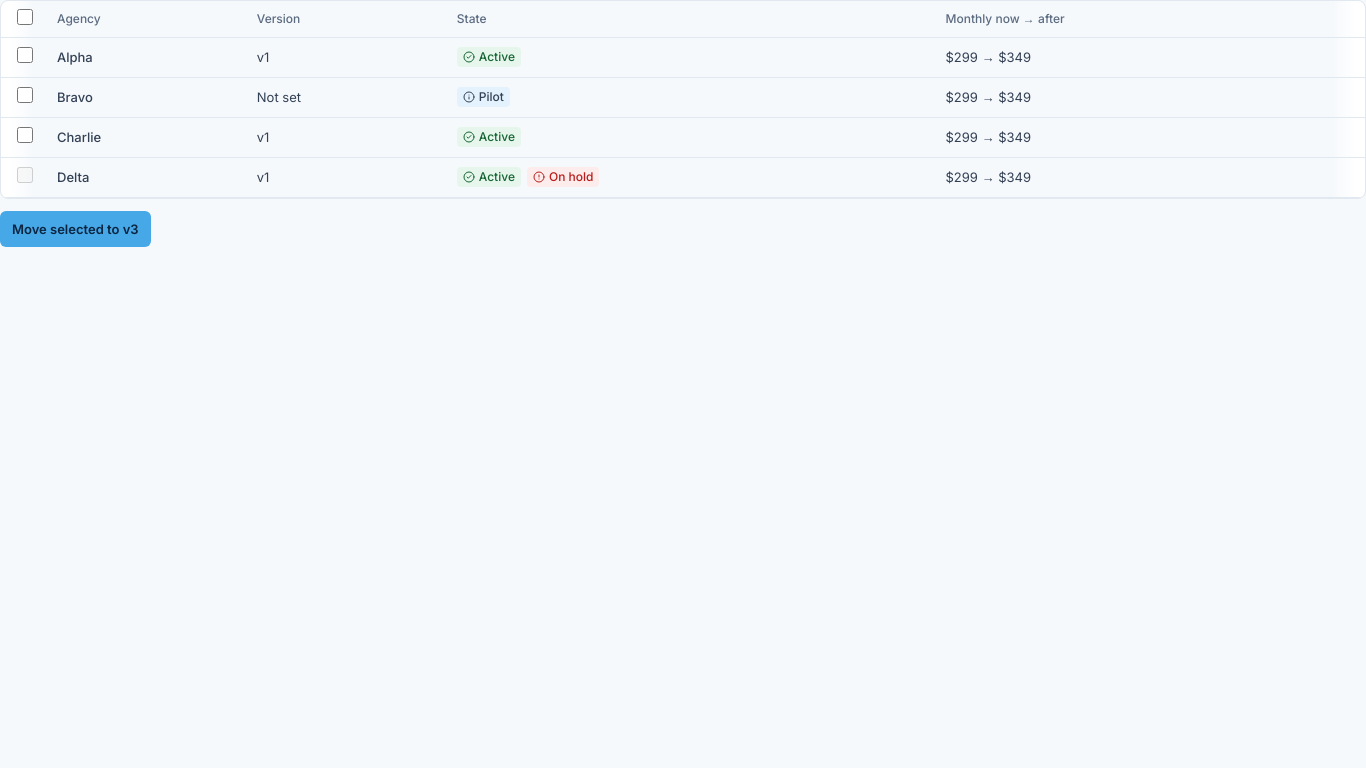
Scenario: PlanAgencies › confirming moves the chosen ids and summarises, naming those not moved with a reason label
Click the checkbox named "Select Alpha".
click(25, 55)  # box [17, 47, 33, 63]
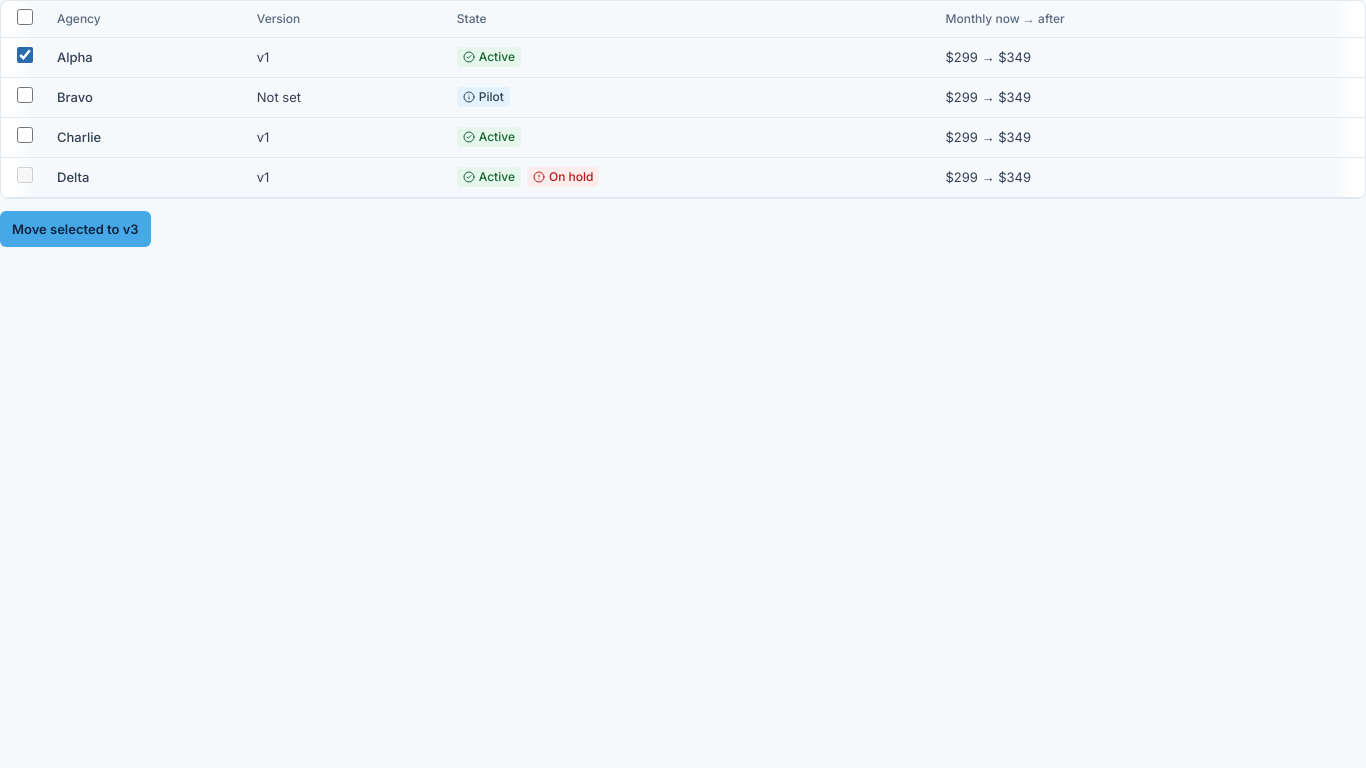
Click the checkbox named "Select Bravo".
click(25, 95)  # box [17, 87, 33, 103]
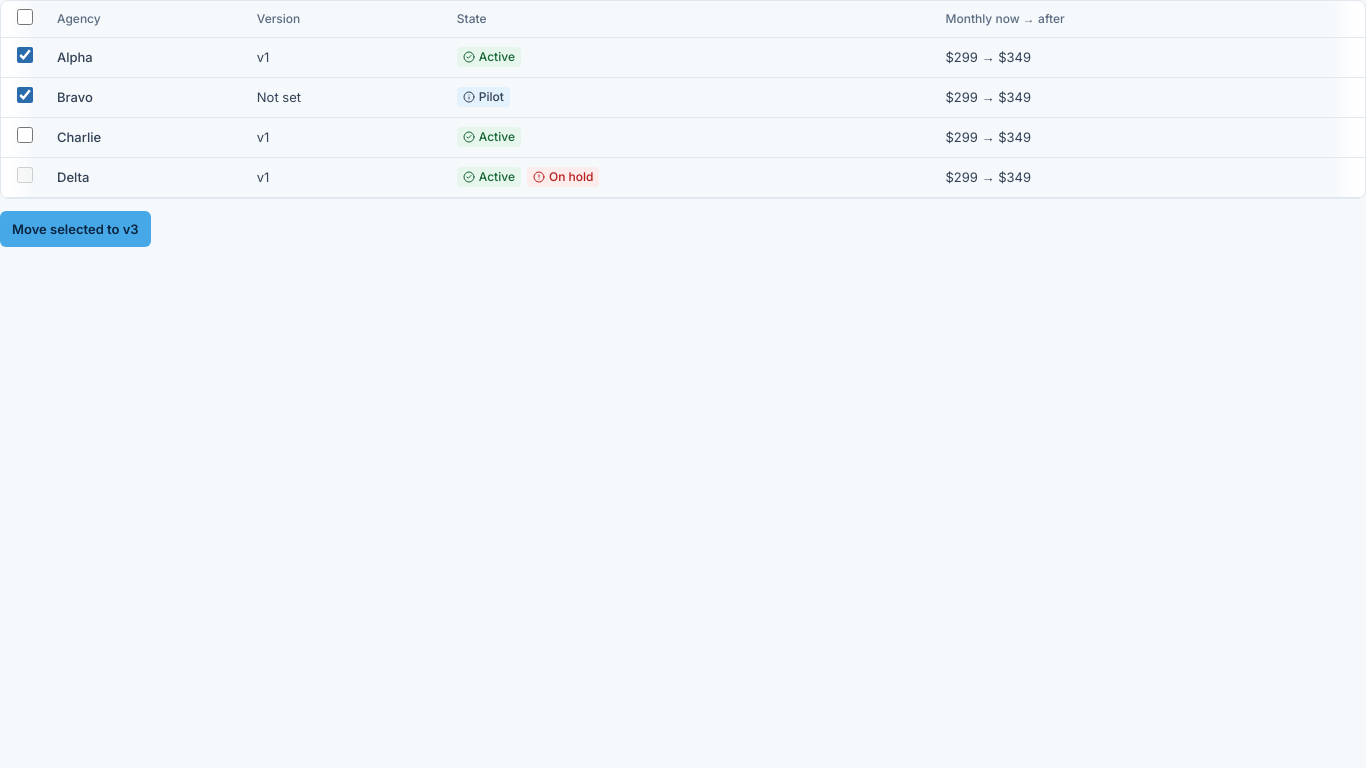
Click the checkbox named "Select Charlie".
click(25, 135)  # box [17, 127, 33, 143]
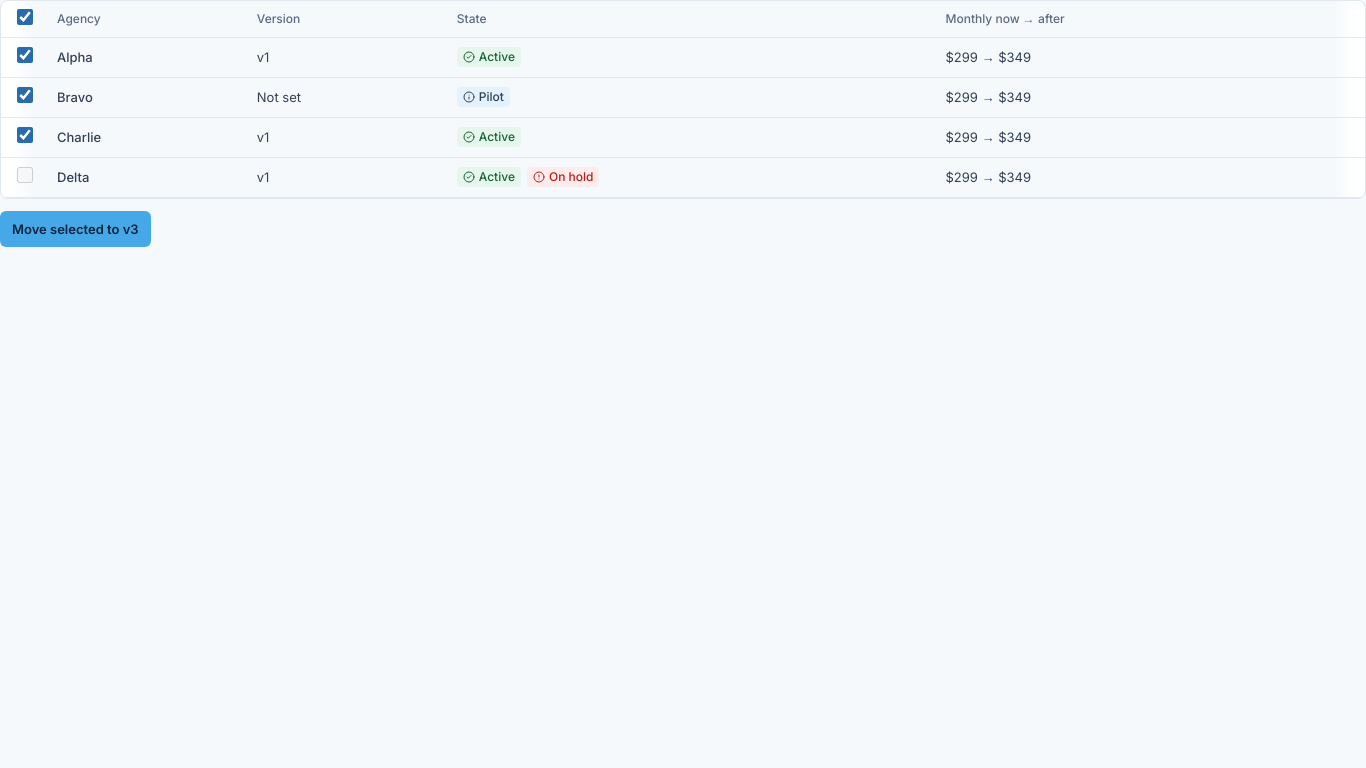
Click the button "Move selected to v3".
click(75, 228)  # box [0, 210, 151, 246]
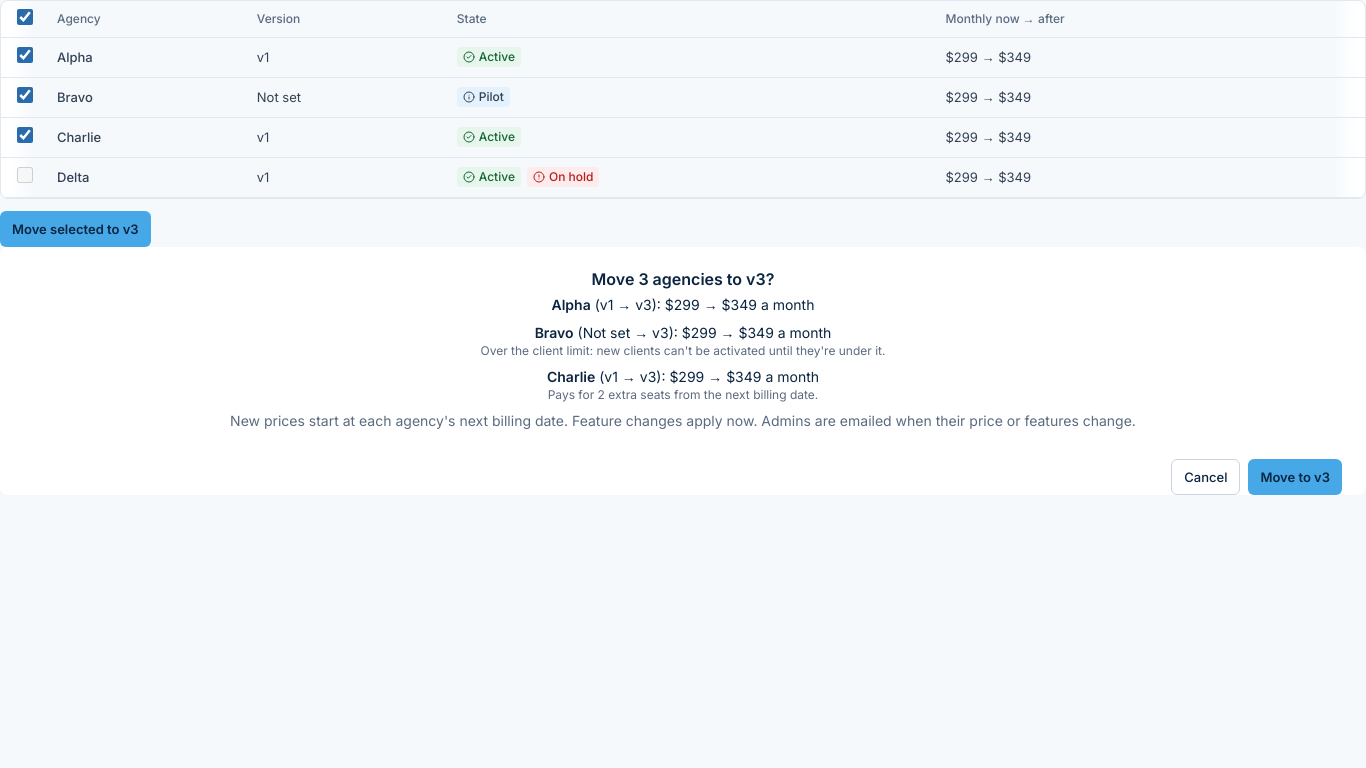
Click the button "Move to v3".
click(1295, 476)  # box [1248, 458, 1342, 494]
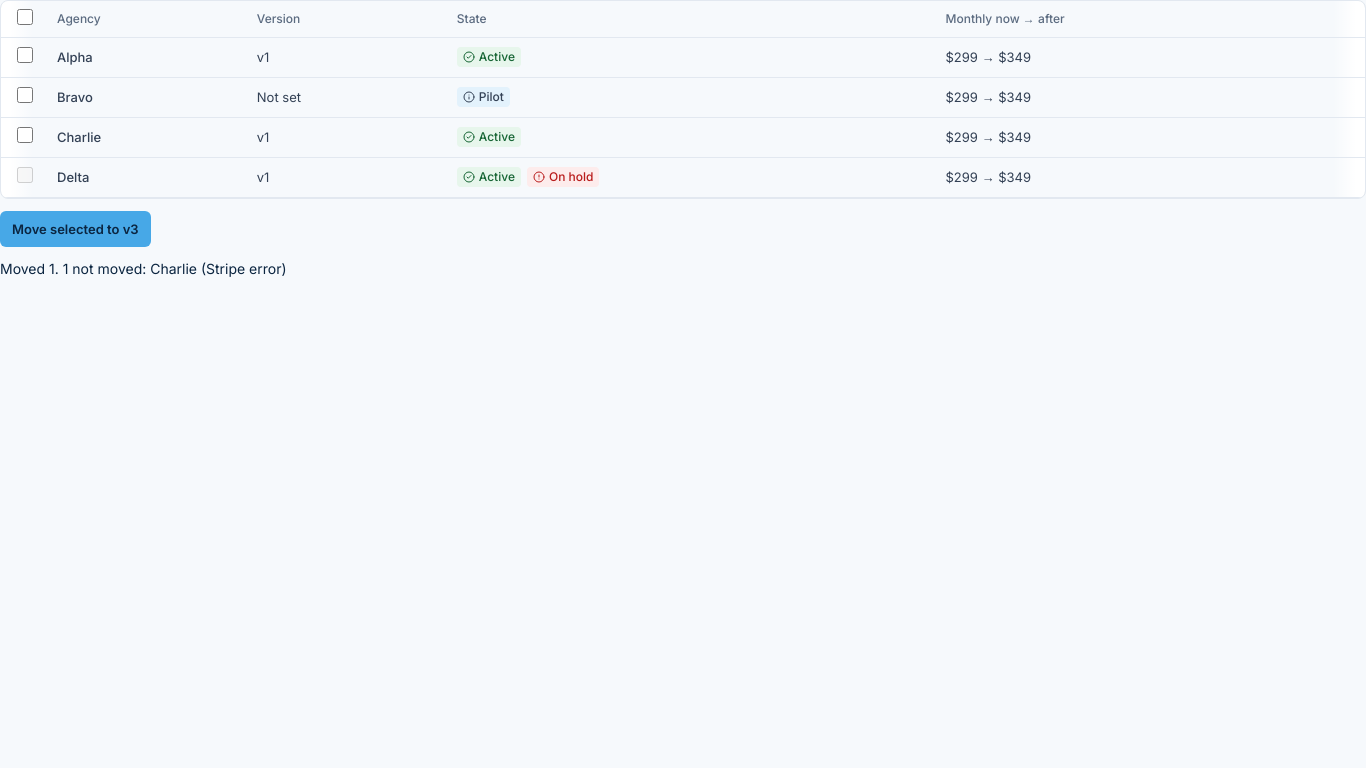
Expected: the message reads "Moved 1. 1 not moved: Charlie (Stripe error)", [0, 260, 286, 276]
